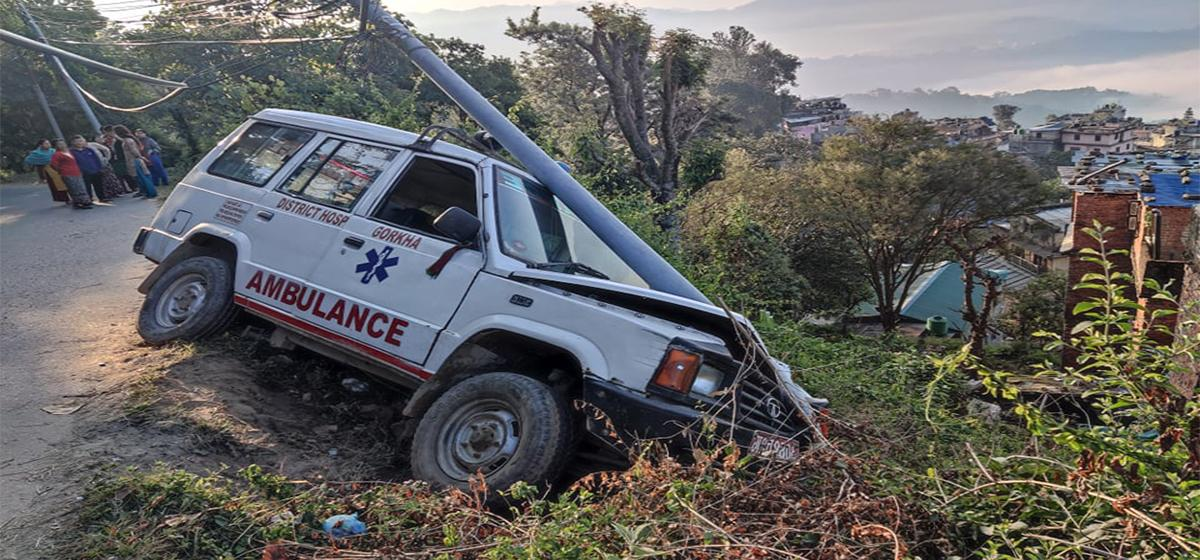ambulance: (122, 95, 814, 517)
